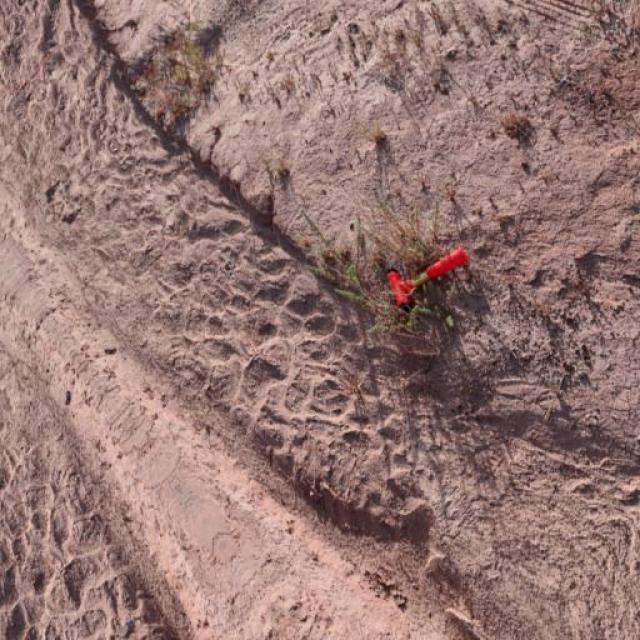mallet: (385, 244, 469, 310)
